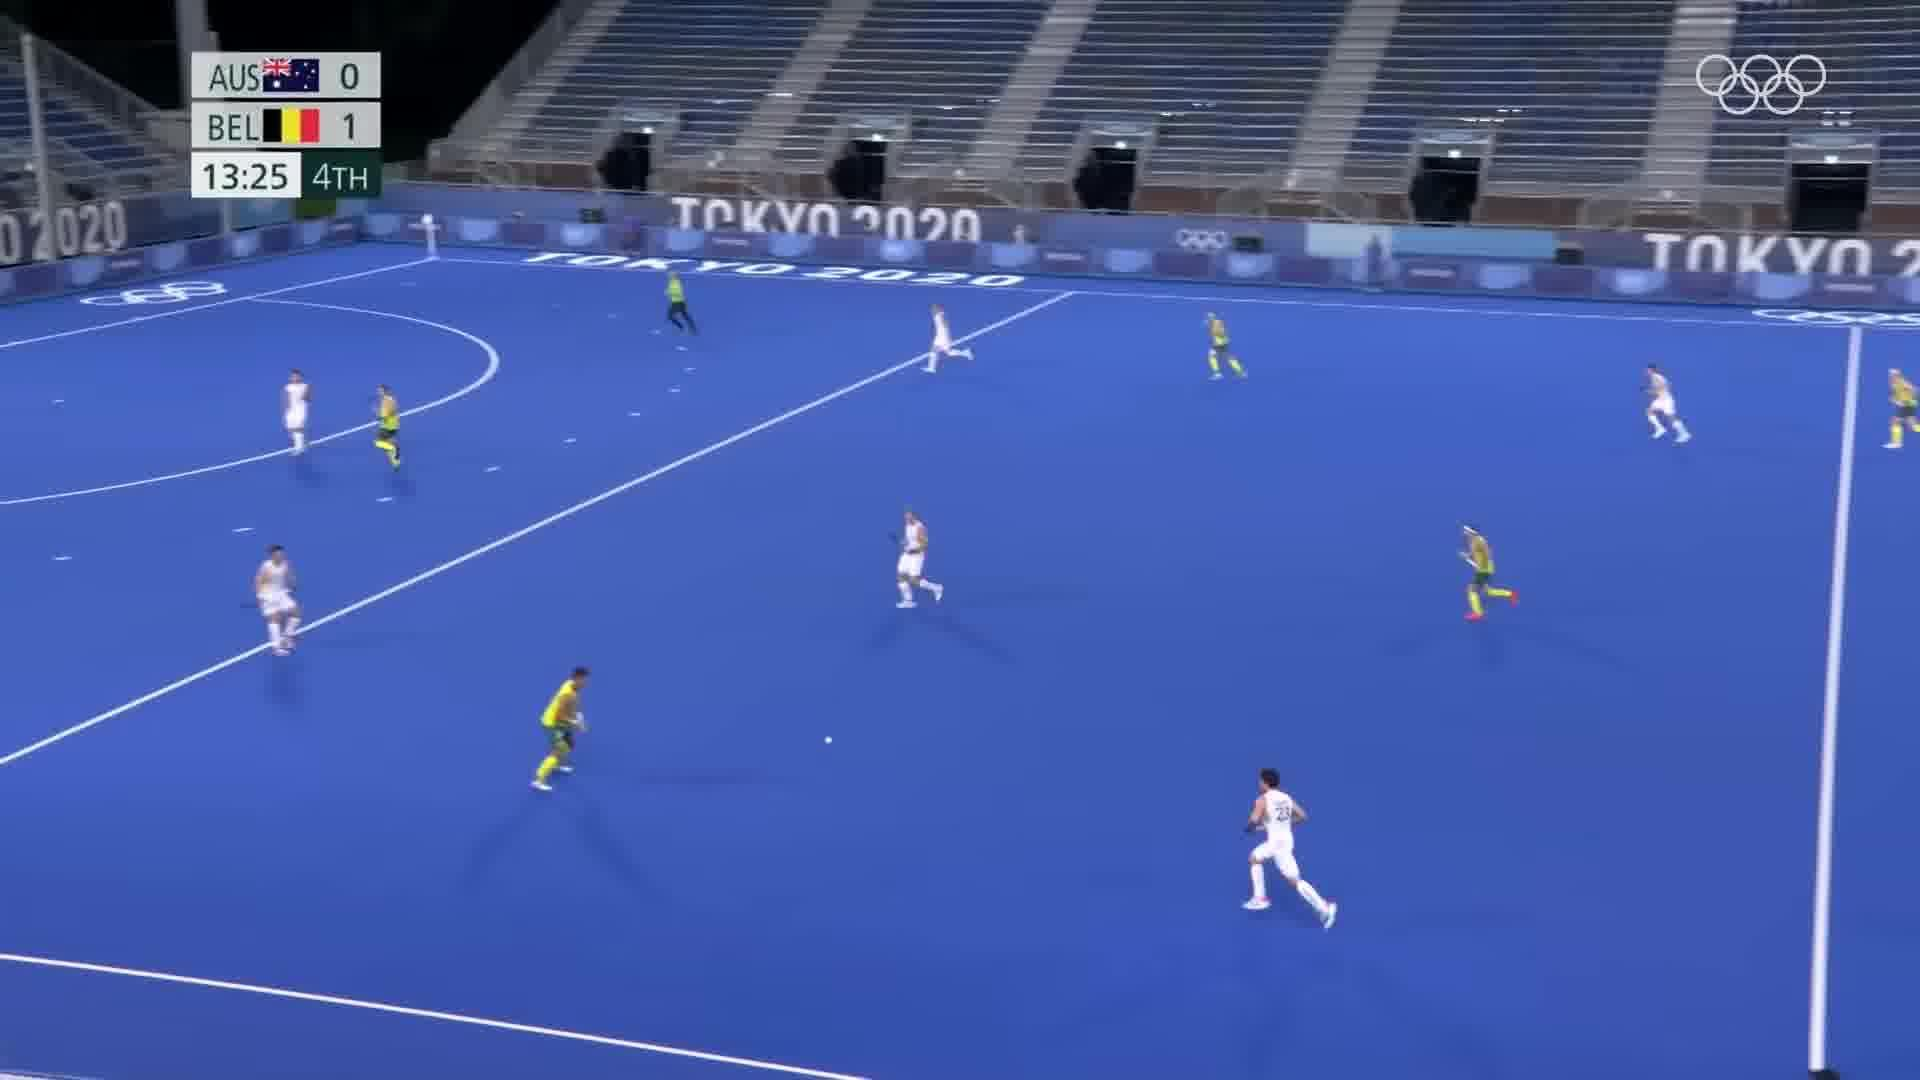ball: (818, 724, 849, 756)
